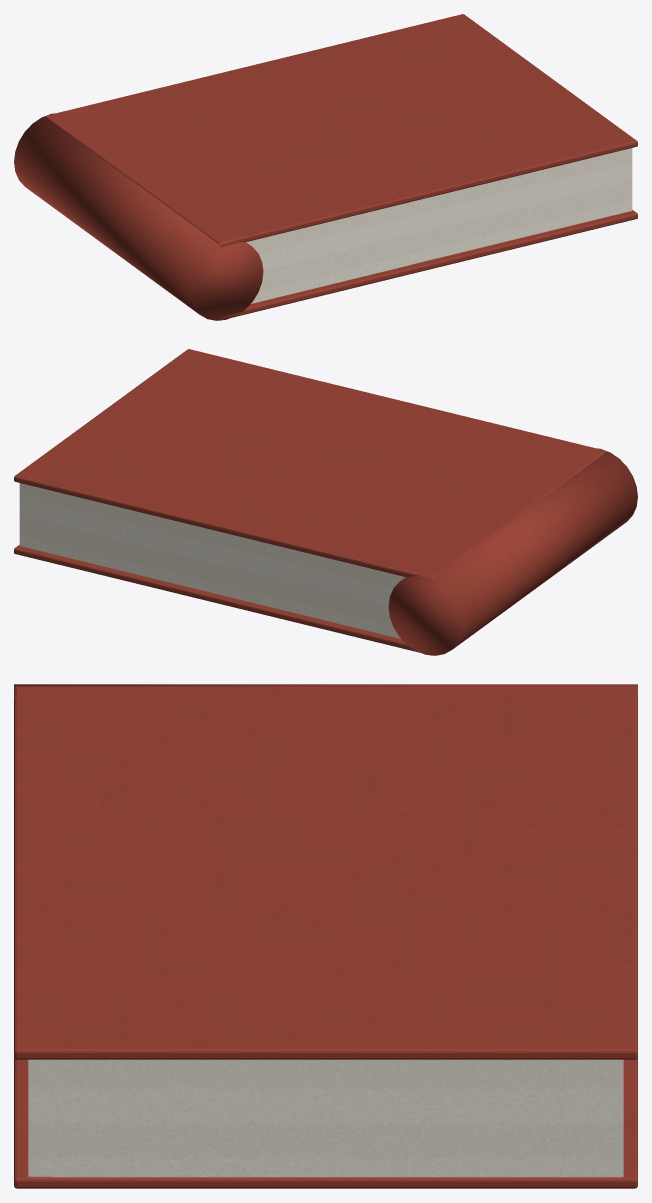
Rendered from book_red.glb.
The picture shows the model from 3 angles, top to bottom: view 1: azimuth 30°, elevation 25°; view 2: azimuth 150°, elevation 25°; view 3: azimuth 270°, elevation 25°; orthographic projection. The views are drawn at different scales.
Visible parts, largest first — view 1: book_red; view 2: book_red; view 3: book_red.
Boxes of the visible parts, box(x1,y1,x2,y2) form: book_red: box(14, 14, 637, 320); book_red: box(14, 349, 637, 655); book_red: box(14, 684, 637, 1188).
Size of the model in its own units: 9.65 by 1.6 by 6.5.
Materials: 1 (1 with a texture image).
